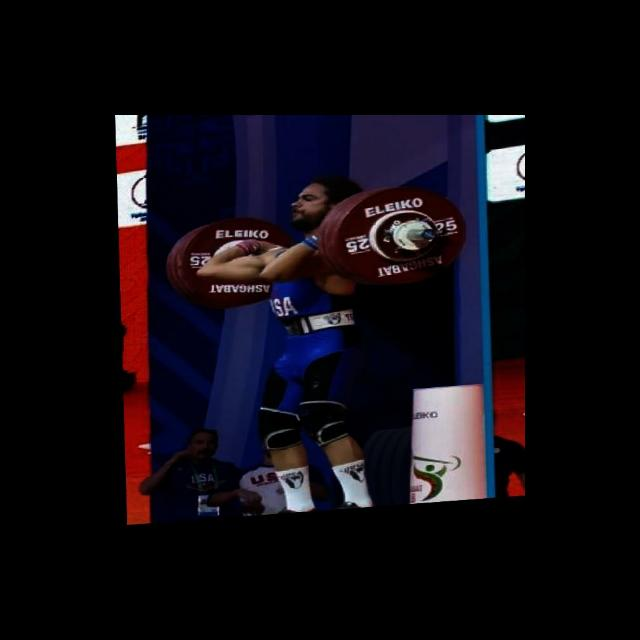barbell: (333, 186, 471, 298)
